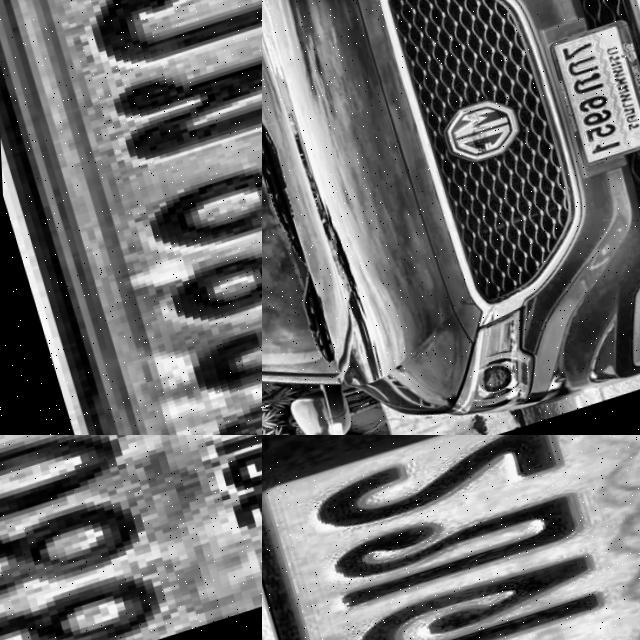license-plate: (0, 0, 262, 435), (262, 435, 640, 640), (0, 435, 262, 640), (541, 22, 640, 177)
